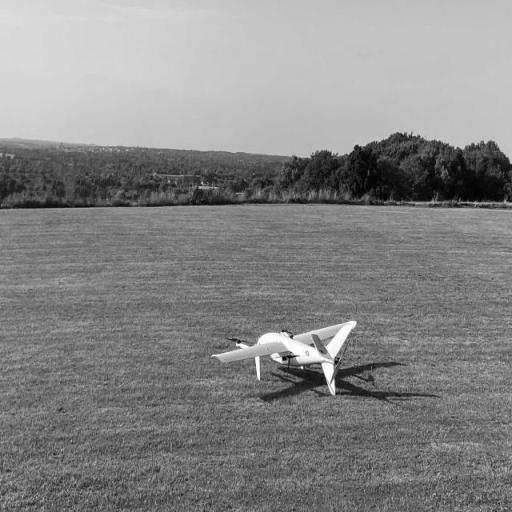uav: (208, 312, 360, 406)
